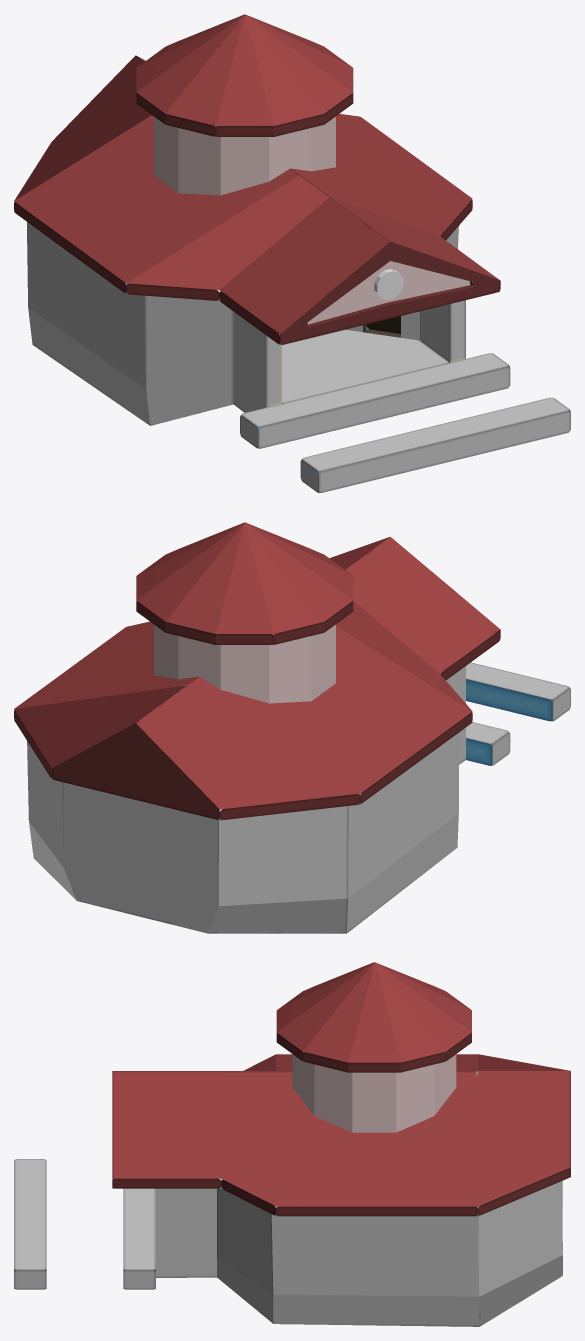
The model's file is eki.fbx.
3 views of the same model, one above another, from view 1: azimuth 30°, elevation 25°; view 2: azimuth 150°, elevation 25°; view 3: azimuth 270°, elevation 25° (orthographic). The views are drawn at different scales.
Visible parts, largest first — view 1: cuboid_6, cuboid_2, cylinder_selection, cuboid_1, cuboid, cylinder, cylinder_1; view 2: cuboid_6, cuboid_2, cylinder_selection, cylinder, cuboid, cuboid_1; view 3: cuboid_6, cuboid_2, cylinder_selection, cylinder, cuboid, cuboid_1.
Part boxes in pixels (x1,y1,x2,y2): cuboid_6: (14,55,500,344); cuboid_2: (27,222,465,425); cylinder_selection: (136,14,353,136); cuboid_1: (240,353,510,448); cuboid: (300,397,570,492); cylinder: (154,116,335,195); cylinder_1: (374,269,403,299); cuboid_6: (14,536,500,820); cuboid_2: (27,666,465,933); cylinder_selection: (136,522,353,644); cylinder: (154,624,335,703); cuboid: (466,662,570,721); cuboid_1: (466,722,510,765); cuboid_6: (112,1054,570,1216); cuboid_2: (156,1178,562,1326); cylinder_selection: (276,962,471,1072); cylinder: (292,1054,456,1132); cuboid: (14,1159,46,1289); cuboid_1: (123,1188,155,1289).
Bounding box in the file's own units: 412 × 378 × 638.
3 materials, 3 textured.
